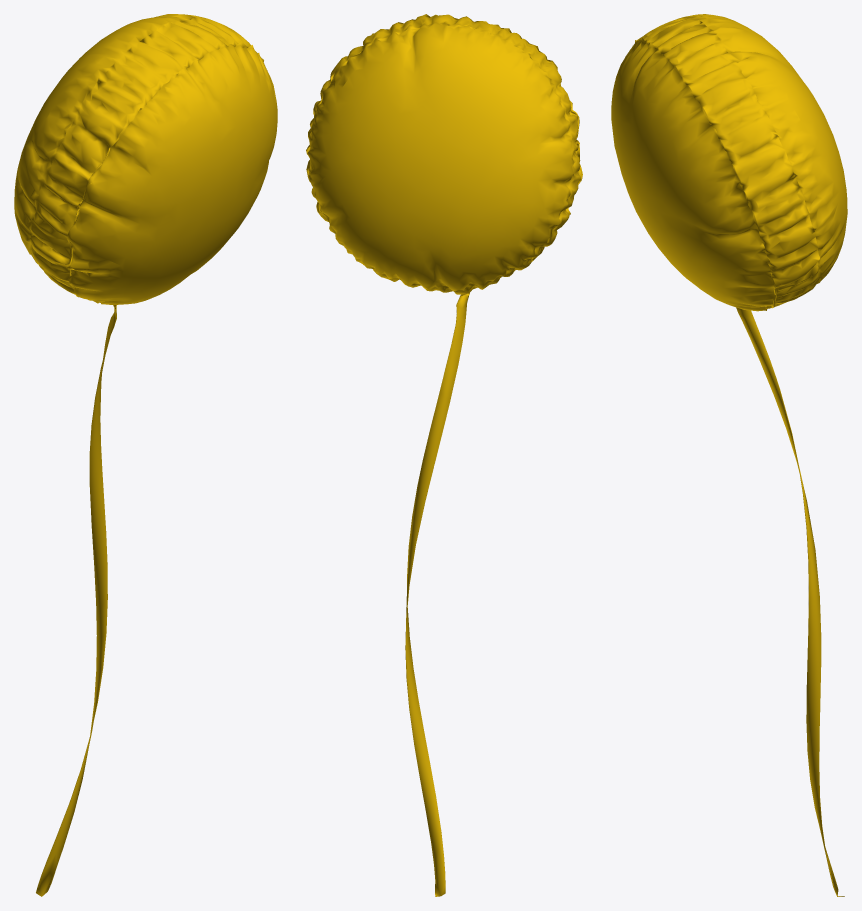
File: balloon.glb
3 views of the same model, side by side, from view 1: azimuth 30°, elevation 25°; view 2: azimuth 150°, elevation 25°; view 3: azimuth 270°, elevation 25° (orthographic). The views are drawn at different scales.
Visible parts, largest first — view 1: Balloon_01; view 2: Balloon_01; view 3: Balloon_01.
Part boxes in pixels (x1=…): Balloon_01: x1=14, y1=14, x2=277, y2=896; Balloon_01: x1=306, y1=14, x2=582, y2=896; Balloon_01: x1=611, y1=14, x2=847, y2=896.
Size of the model in its own units: 0.3059 by 1.01 by 0.2425.
